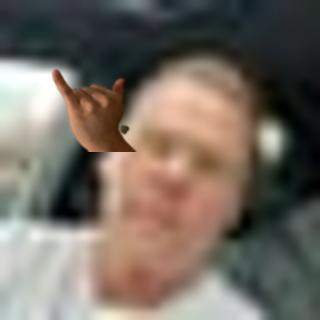HAVE: (46, 61, 130, 143)
